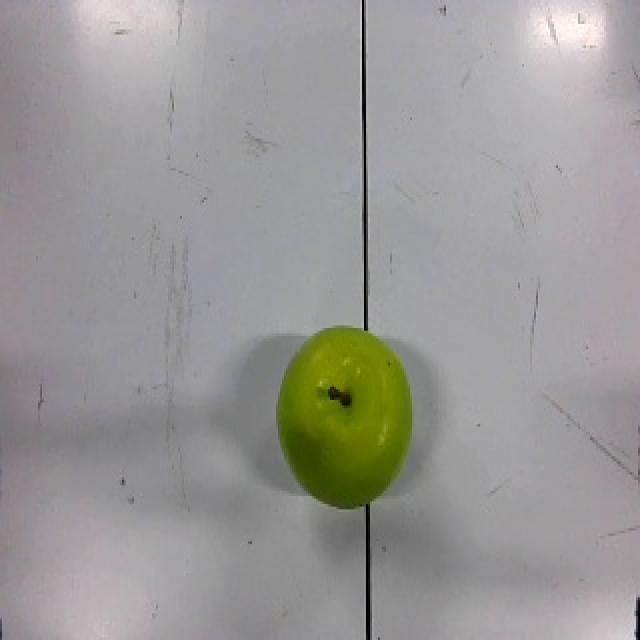apple: (275, 323, 414, 510)
